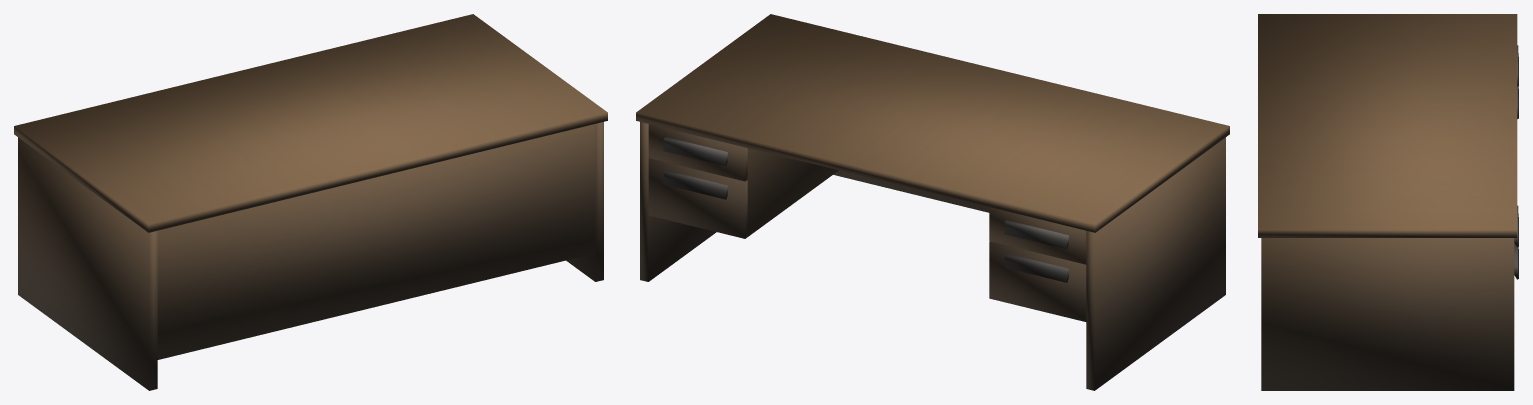
File: Table_OfficeDesk2.fbx
The picture shows the model from 3 angles, left to right: view 1: azimuth 30°, elevation 25°; view 2: azimuth 150°, elevation 25°; view 3: azimuth 270°, elevation 25°; orthographic projection. The views are drawn at different scales.
Visible parts, largest first — view 1: Table_OfficeDesk2; view 2: Table_OfficeDesk2; view 3: Table_OfficeDesk2.
Part boxes in pixels (x1,y1,x2,y2): Table_OfficeDesk2: (14,14,607,390); Table_OfficeDesk2: (636,14,1229,390); Table_OfficeDesk2: (1258,14,1518,390).
Bounding box in the file's own units: 210 × 73.44 × 107.
